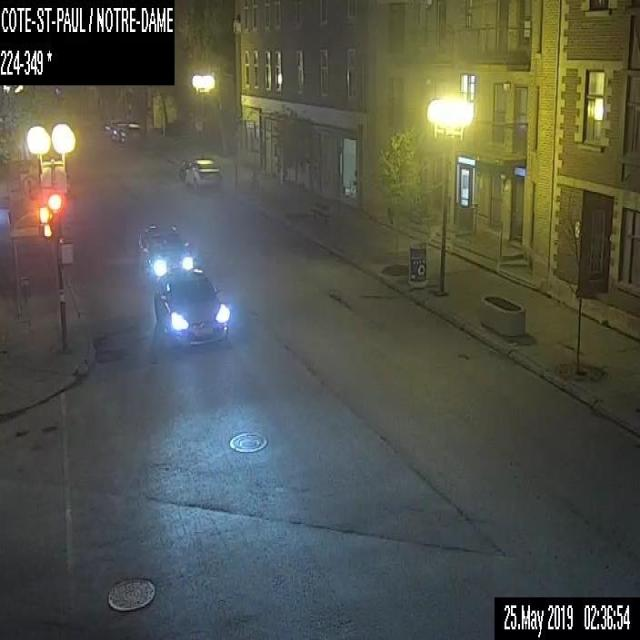vehicle: (153, 268, 229, 345), (138, 224, 194, 282), (179, 159, 221, 188), (118, 122, 141, 146)
